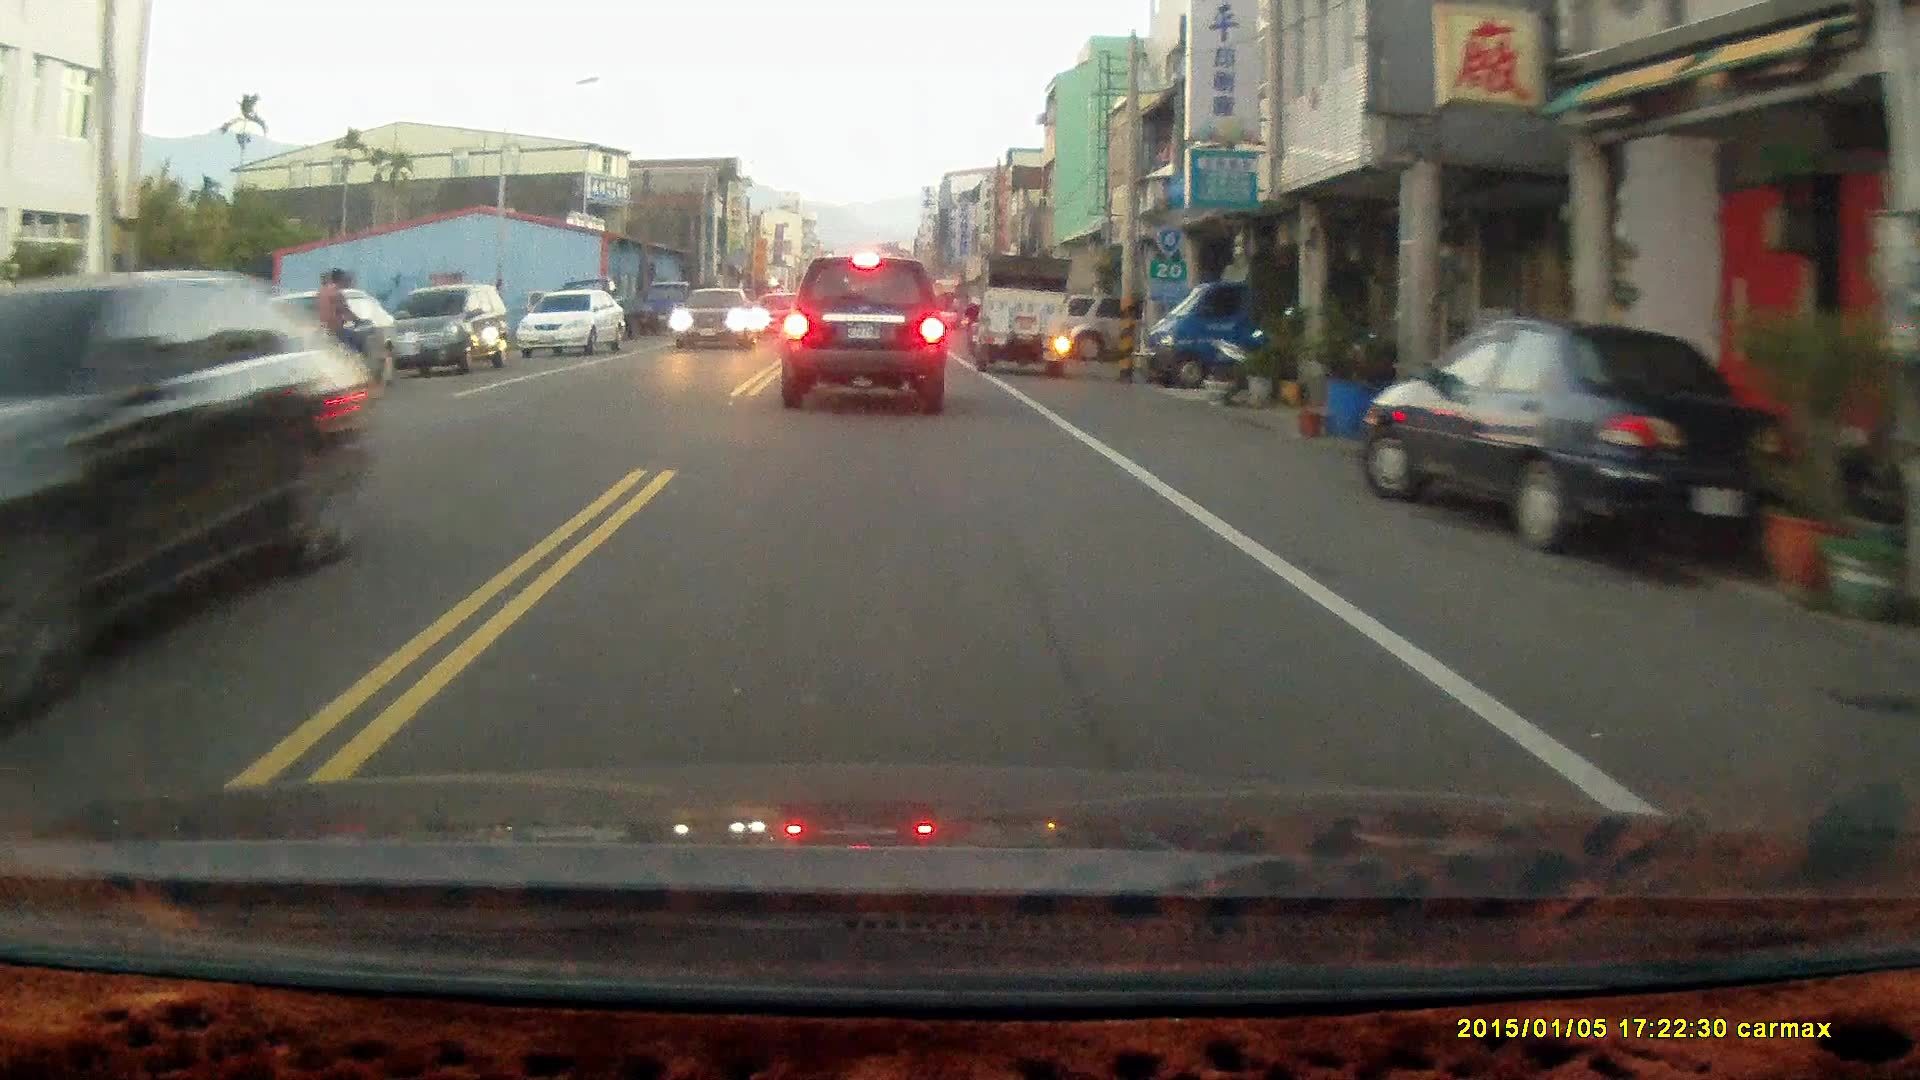rider: (283, 261, 391, 406)
vehicle: (1, 268, 379, 726), (1364, 319, 1814, 561), (782, 251, 949, 410), (213, 293, 409, 413), (1135, 254, 1296, 389), (377, 282, 515, 379), (975, 257, 1074, 377), (517, 288, 629, 360), (680, 288, 760, 350), (637, 279, 704, 340)
